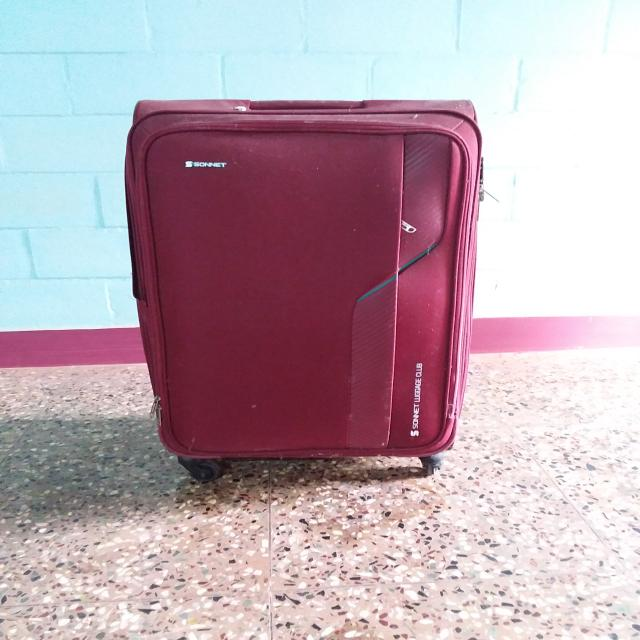suitcaserotation: (119, 94, 486, 479)
